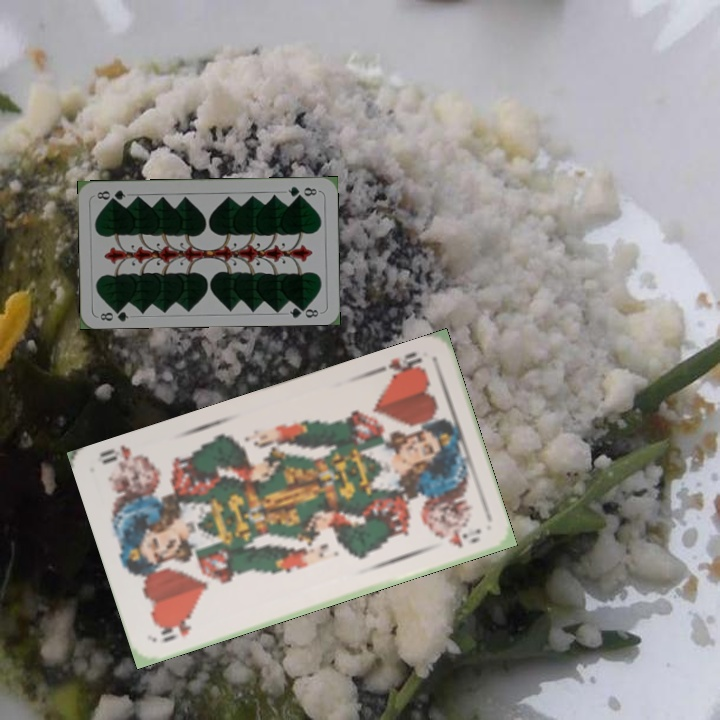G8: (96, 304, 131, 324), (284, 182, 321, 200)
HO: (384, 347, 428, 382), (155, 614, 196, 645)
